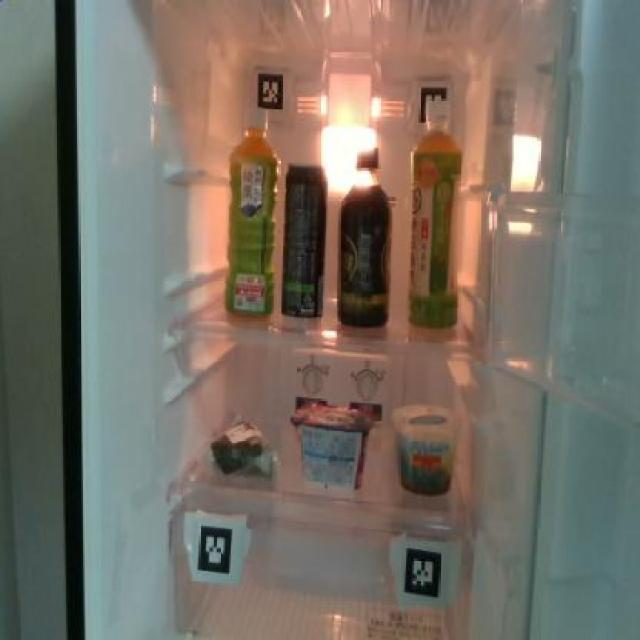coffee: (334, 148, 394, 328)
energy_drink: (280, 158, 328, 322)
pudding: (388, 402, 462, 493)
rice_ball: (208, 408, 281, 487)
tea_a: (220, 103, 280, 322)
tea_i: (408, 130, 462, 327)
yogurt: (288, 403, 376, 492)
